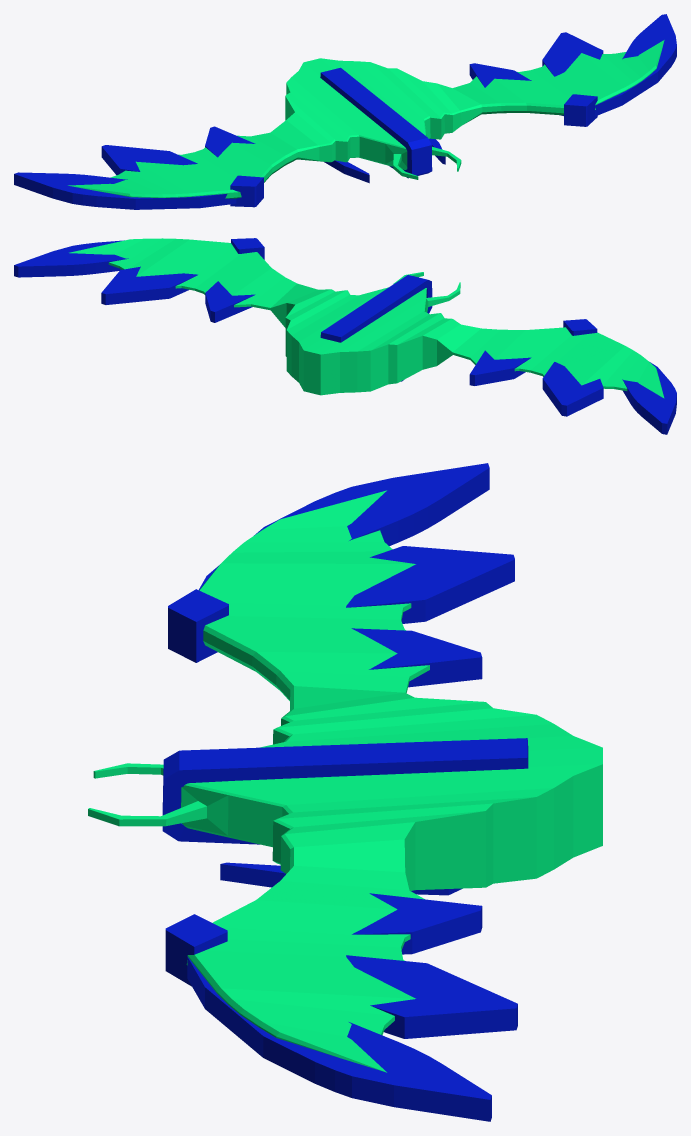
The model's file is Enemy.FBX.
3 views of the same model, one above another, from view 1: azimuth 30°, elevation 25°; view 2: azimuth 150°, elevation 25°; view 3: azimuth 270°, elevation 25° (orthographic). The views are drawn at different scales.
Visible parts, largest first — view 1: Line002; view 2: Line002; view 3: Line002.
Boxes of the visible parts, x1,y1,x2,y2 form: Line002: (14,14,676,209); Line002: (14,238,676,434); Line002: (88,463,602,1121).
Bounding box in the file's own units: 891 × 63.51 × 304.
